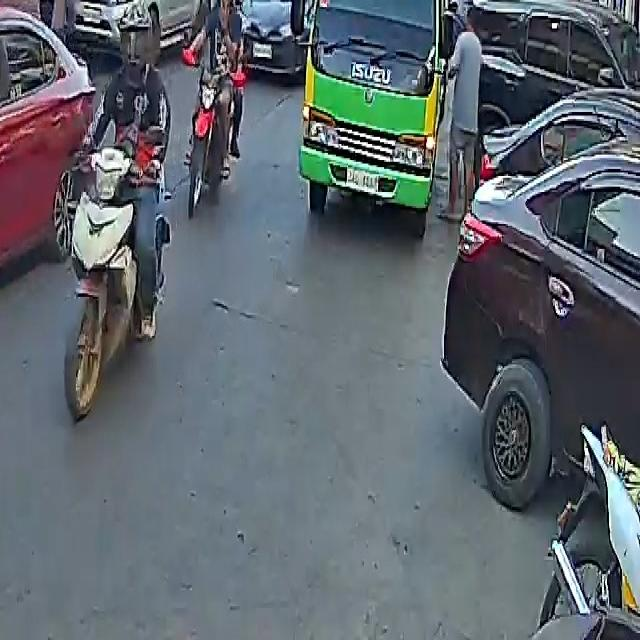car: (441, 85, 640, 523), (0, 0, 113, 380), (470, 0, 640, 153), (68, 0, 213, 53), (229, 0, 318, 76)
